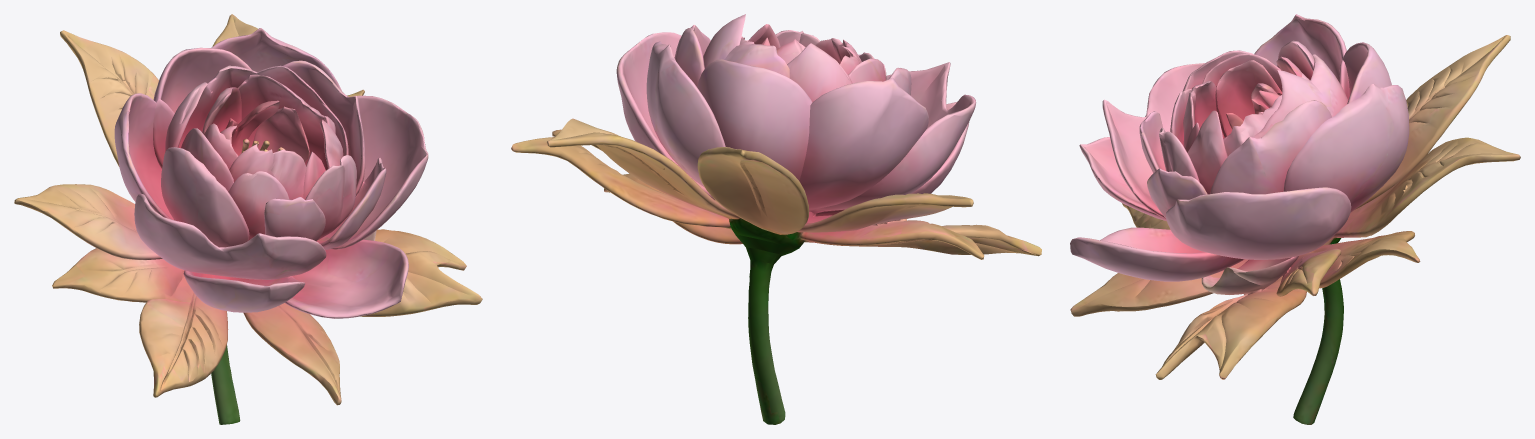
Rendered from gold_leaf_peony.glb.
The picture shows the model from 3 angles, left to right: view 1: azimuth 30°, elevation 25°; view 2: azimuth 150°, elevation 25°; view 3: azimuth 270°, elevation 25°; orthographic projection. The views are drawn at different scales.
Parts seen in each view (by area): view 1: model; view 2: model; view 3: model.
Part boxes in pixels (box(x1,y1,x2,y2)): model: box(14, 14, 482, 424); model: box(511, 14, 1041, 424); model: box(1070, 14, 1520, 424).
Bounding box in the file's own units: 1.9 × 1.62 × 1.78.
1 material, 1 textured.
